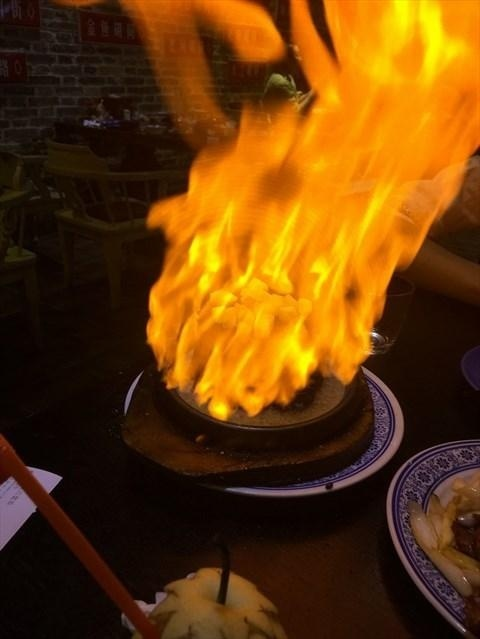fire: (142, 6, 480, 410)
